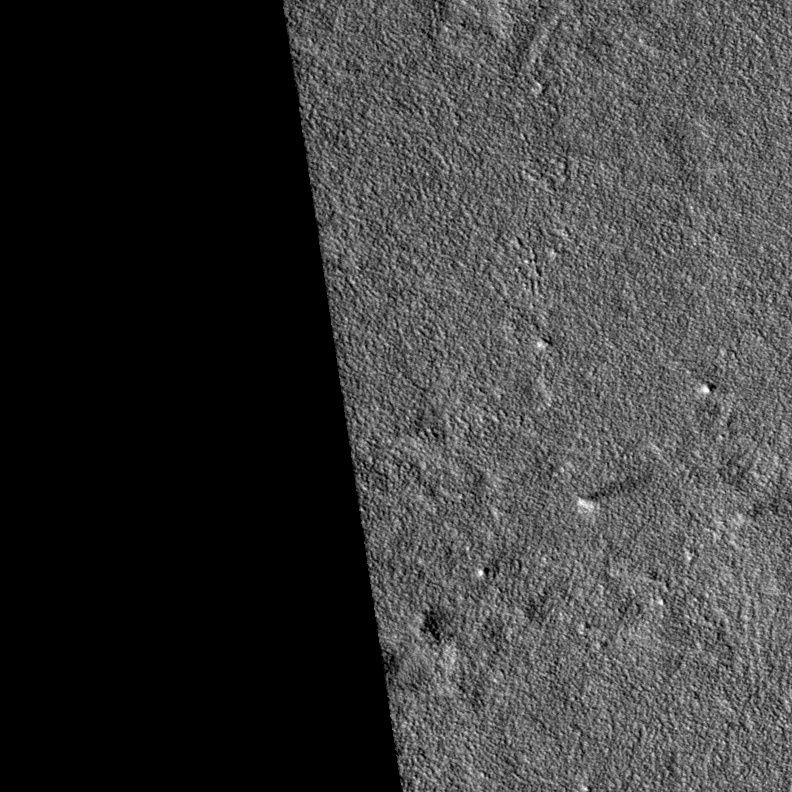dust_devil: (576, 473, 652, 515)
